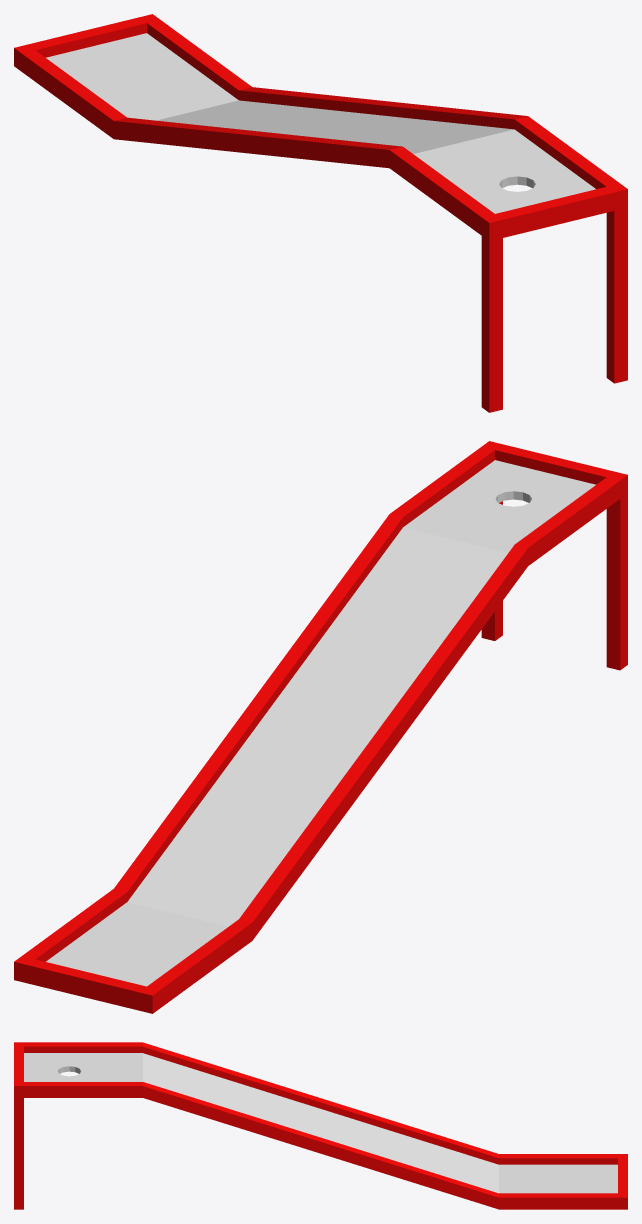
File: Track18.fbx
3 renders of one model, top to bottom at view 1: azimuth 30°, elevation 25°; view 2: azimuth 150°, elevation 25°; view 3: azimuth 270°, elevation 25°, orthographic. The views are drawn at different scales.
Parts seen in each view (by area): view 1: BahnF5_Boundary, BahnF5_Track; view 2: BahnF5_Track, BahnF5_Boundary; view 3: BahnF5_Boundary, BahnF5_Track.
Part boxes in pixels (<box>): BahnF5_Boundary: <box>14,14,627,412</box>; BahnF5_Track: <box>46,33,595,213</box>; BahnF5_Track: <box>46,460,595,986</box>; BahnF5_Boundary: <box>14,441,627,1013</box>; BahnF5_Boundary: <box>14,1042,627,1209</box>; BahnF5_Track: <box>24,1053,617,1193</box>.
Size of the model in its own units: 87 by 115 by 517.
